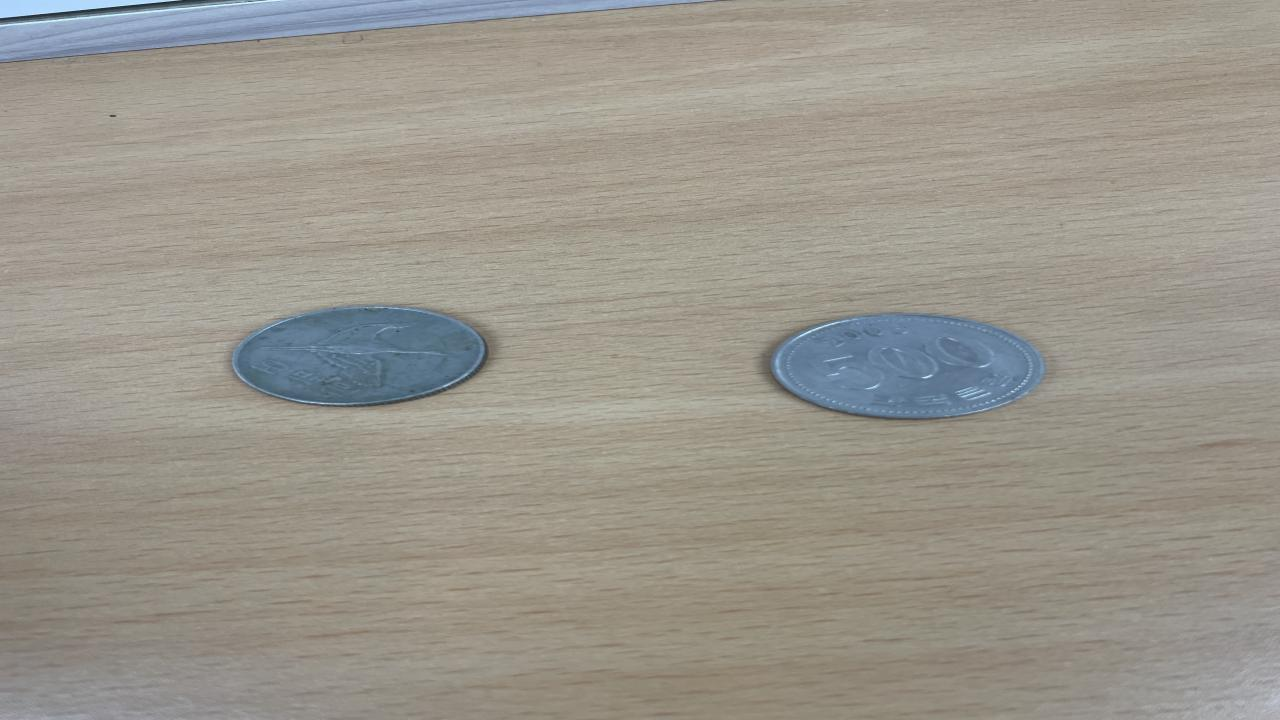coin: (764, 312, 1046, 420), (226, 306, 488, 407)
